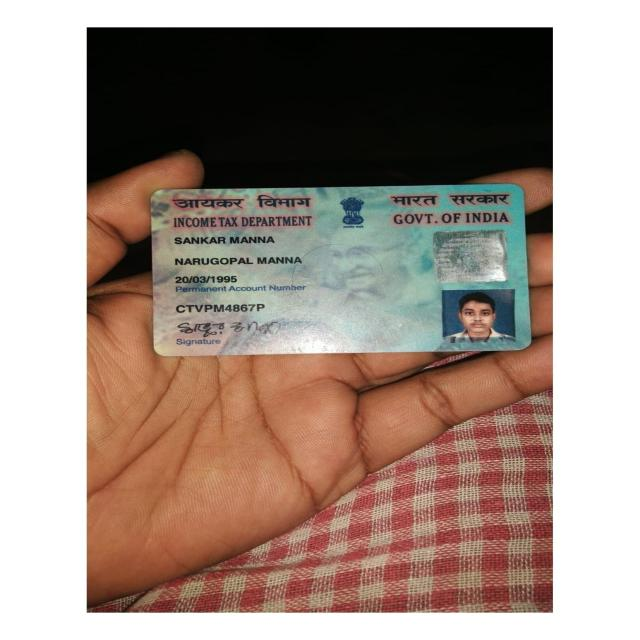pan_card: (154, 182, 528, 353)
